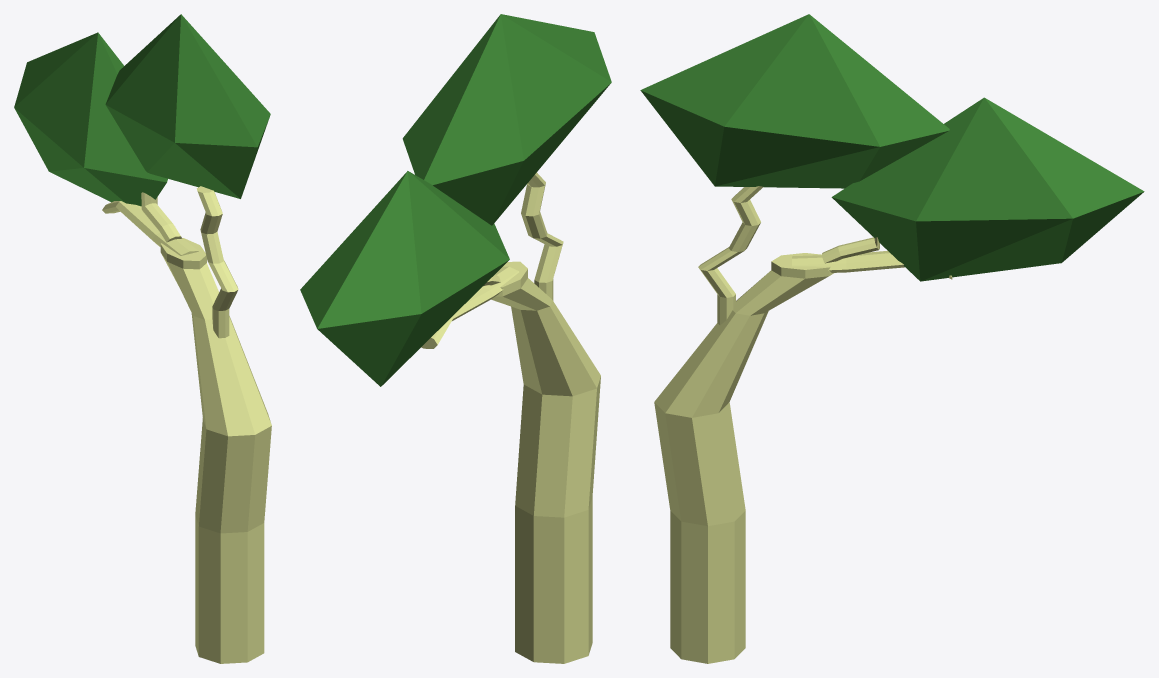
Rendered from アカシア220.fbx.
The picture shows the model from 3 angles, left to right: view 1: azimuth 30°, elevation 25°; view 2: azimuth 150°, elevation 25°; view 3: azimuth 270°, elevation 25°; orthographic projection. The views are drawn at different scales.
Parts seen in each view (by area): view 1: 円柱, ICO球, ICO球.001; view 2: 円柱, ICO球, ICO球.001; view 3: ICO球, ICO球.001, 円柱.
Part boxes in pixels (x1,y1,x2,y2): 円柱: [102, 186, 271, 663]; ICO球: [105, 14, 270, 198]; ICO球.001: [14, 32, 167, 206]; 円柱: [421, 172, 600, 663]; ICO球: [402, 14, 611, 225]; ICO球.001: [300, 171, 509, 386]; ICO球: [640, 14, 949, 188]; ICO球.001: [831, 97, 1144, 281]; 円柱: [654, 186, 952, 663].
Bounding box in the file's own units: 114 × 611 × 440.
